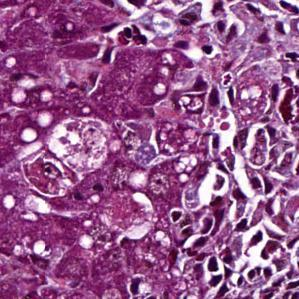ballooning: (45, 113, 117, 180), (113, 190, 159, 247)
